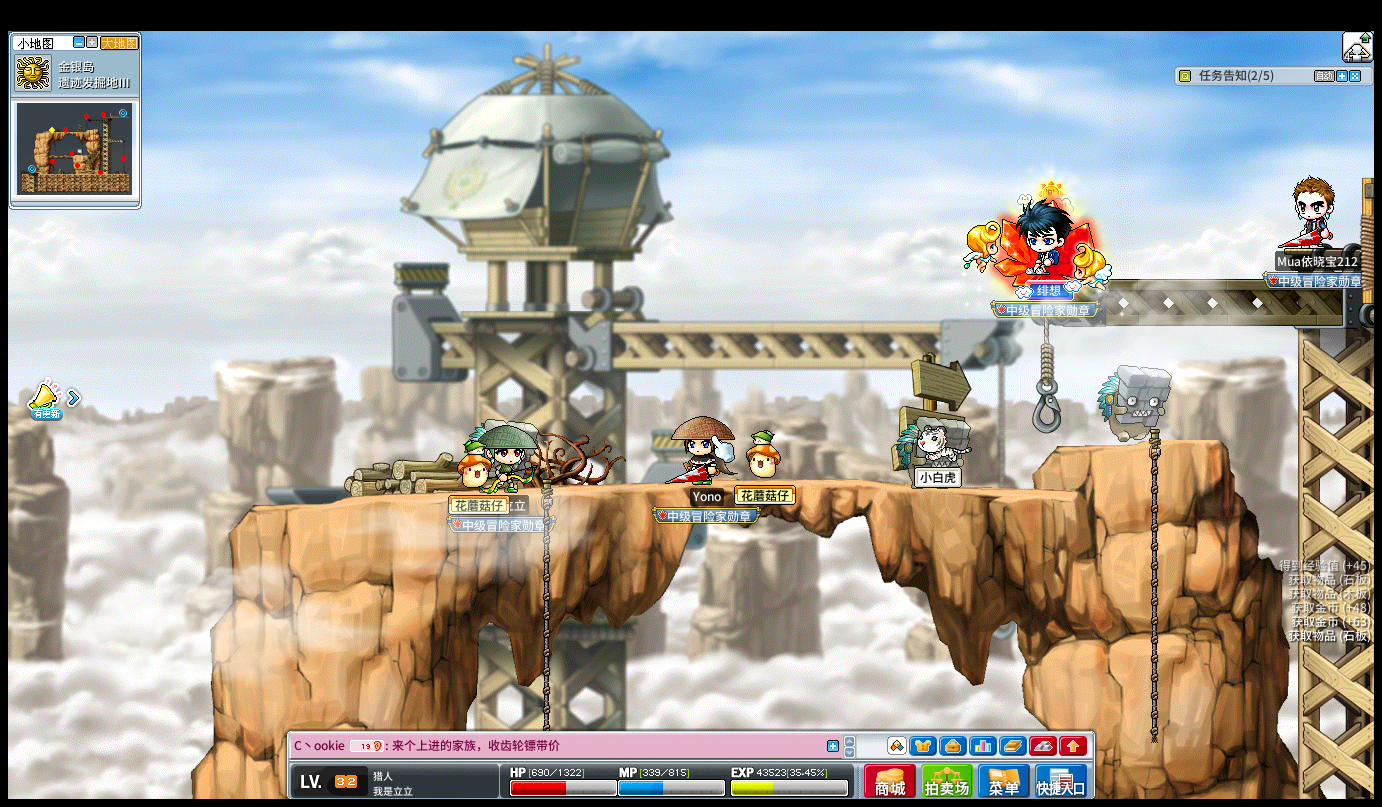floor: (244, 473, 1121, 501), (360, 476, 1086, 498), (1058, 435, 1225, 451)
monster: (1096, 364, 1172, 444)
rope: (1145, 421, 1161, 748), (539, 475, 551, 708), (1040, 318, 1053, 426)
